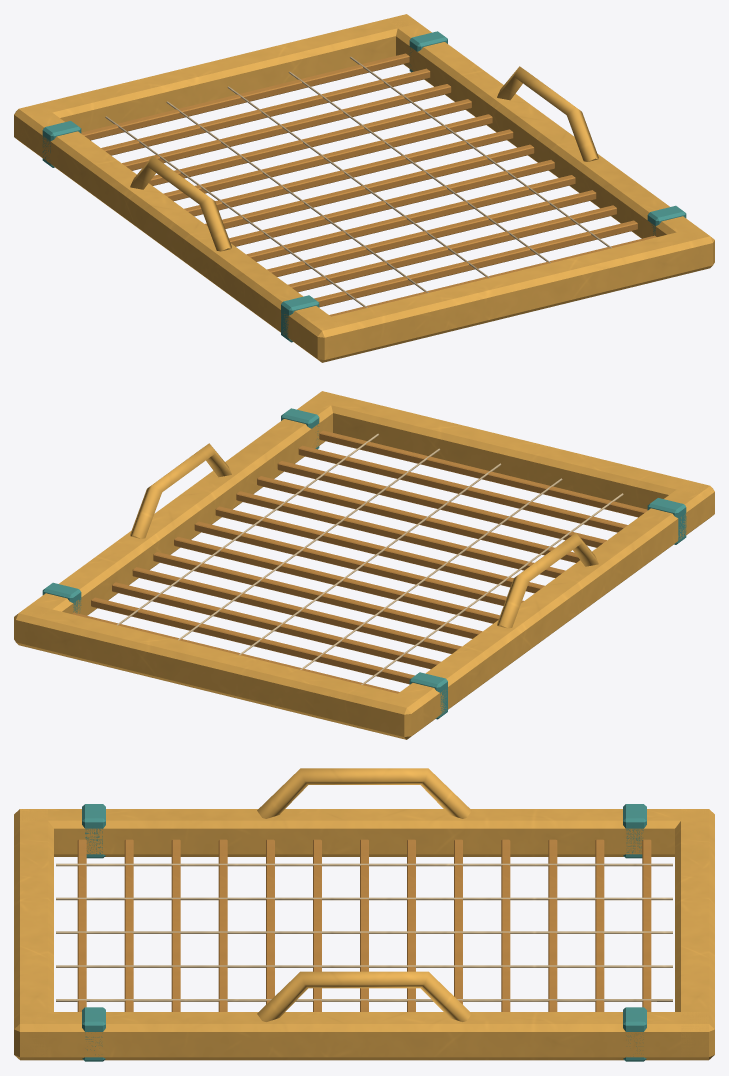
The model's file is tool_papermaking_screen.glb.
3 views of the same model, one above another, from view 1: azimuth 30°, elevation 25°; view 2: azimuth 150°, elevation 25°; view 3: azimuth 270°, elevation 25° (orthographic). The views are drawn at different scales.
Parts seen in each view (by area): view 1: tool_papermaking_screen__bamboo_end, tool_papermaking_screen__bamboo_side, tool_papermaking_screen__bamboo_end.001, tool_papermaking_screen__bamboo_side.001, tool_papermaking_screen__bamboo_rib.003, tool_papermaking_screen__bamboo_rib.012, tool_papermaking_screen__bamboo_rib.011, tool_papermaking_screen__bamboo_rib.002, tool_papermaking_screen__bamboo_rib.004, tool_papermaking_screen__bamboo_rib.005, tool_papermaking_screen__bamboo_rib.001, tool_papermaking_screen__bamboo_rib.010 (+14 smaller); view 2: tool_papermaking_screen__bamboo_end.001, tool_papermaking_screen__bamboo_side, tool_papermaking_screen__bamboo_end, tool_papermaking_screen__bamboo_side.001, tool_papermaking_screen__bamboo_rib.009, tool_papermaking_screen__bamboo_rib, tool_papermaking_screen__bamboo_rib.001, tool_papermaking_screen__bamboo_rib.010, tool_papermaking_screen__bamboo_rib.008, tool_papermaking_screen__bamboo_rib.007, tool_papermaking_screen__bamboo_rib.011, tool_papermaking_screen__bamboo_rib.002 (+15 smaller); view 3: tool_papermaking_screen__bamboo_side.001, tool_papermaking_screen__bamboo_side, tool_papermaking_screen__bamboo_end, tool_papermaking_screen__bamboo_end.001, tool_papermaking_screen__lift_handle.001, tool_papermaking_screen__lift_handle, tool_papermaking_screen__woven_thread, tool_papermaking_screen__woven_thread.001, tool_papermaking_screen__woven_thread.002, tool_papermaking_screen__woven_thread.003, tool_papermaking_screen__bamboo_rib.001, tool_papermaking_screen__bamboo_rib.011 (+16 smaller).
Boxes of the visible parts, x1,y1,x2,y2 form: tool_papermaking_screen__bamboo_end: [305, 227, 714, 362]; tool_papermaking_screen__bamboo_side: [14, 104, 345, 361]; tool_papermaking_screen__bamboo_end.001: [14, 14, 418, 145]; tool_papermaking_screen__bamboo_side.001: [386, 14, 708, 270]; tool_papermaking_screen__bamboo_rib.003: [267, 190, 596, 276]; tool_papermaking_screen__bamboo_rib.012: [81, 53, 409, 140]; tool_papermaking_screen__bamboo_rib.011: [101, 68, 430, 155]; tool_papermaking_screen__bamboo_rib.002: [288, 205, 616, 292]; tool_papermaking_screen__bamboo_rib.004: [246, 175, 575, 261]; tool_papermaking_screen__bamboo_rib.005: [229, 160, 554, 246]; tool_papermaking_screen__bamboo_rib.001: [314, 220, 637, 307]; tool_papermaking_screen__bamboo_rib.010: [122, 84, 451, 170]; tool_papermaking_screen__bamboo_end.001: [14, 604, 423, 739]; tool_papermaking_screen__bamboo_side: [383, 481, 714, 739]; tool_papermaking_screen__bamboo_end: [310, 391, 714, 524]; tool_papermaking_screen__bamboo_side.001: [21, 391, 342, 647]; tool_papermaking_screen__bamboo_rib.009: [132, 567, 461, 653]; tool_papermaking_screen__bamboo_rib: [319, 430, 647, 517]; tool_papermaking_screen__bamboo_rib.001: [298, 445, 627, 532]; tool_papermaking_screen__bamboo_rib.010: [112, 582, 440, 669]; tool_papermaking_screen__bamboo_rib.008: [153, 552, 482, 638]; tool_papermaking_screen__bamboo_rib.007: [174, 537, 499, 623]; tool_papermaking_screen__bamboo_rib.011: [91, 597, 414, 684]; tool_papermaking_screen__bamboo_rib.002: [277, 461, 606, 547]; tool_papermaking_screen__bamboo_side.001: [14, 1012, 714, 1060]; tool_papermaking_screen__bamboo_side: [20, 809, 708, 856]; tool_papermaking_screen__bamboo_end: [14, 809, 53, 1057]; tool_papermaking_screen__bamboo_end.001: [675, 809, 714, 1059]; tool_papermaking_screen__lift_handle.001: [257, 971, 471, 1021]; tool_papermaking_screen__lift_handle: [257, 768, 471, 818]; tool_papermaking_screen__woven_thread: [56, 863, 672, 866]; tool_papermaking_screen__woven_thread.001: [56, 897, 672, 900]; tool_papermaking_screen__woven_thread.002: [56, 931, 672, 933]; tool_papermaking_screen__woven_thread.003: [56, 965, 672, 967]; tool_papermaking_screen__bamboo_rib.001: [124, 839, 133, 1011]; tool_papermaking_screen__bamboo_rib.011: [595, 839, 604, 1011].
Size of the model in its own units: 0.52 by 0.0911 by 0.7.
4 materials, 4 textured.
